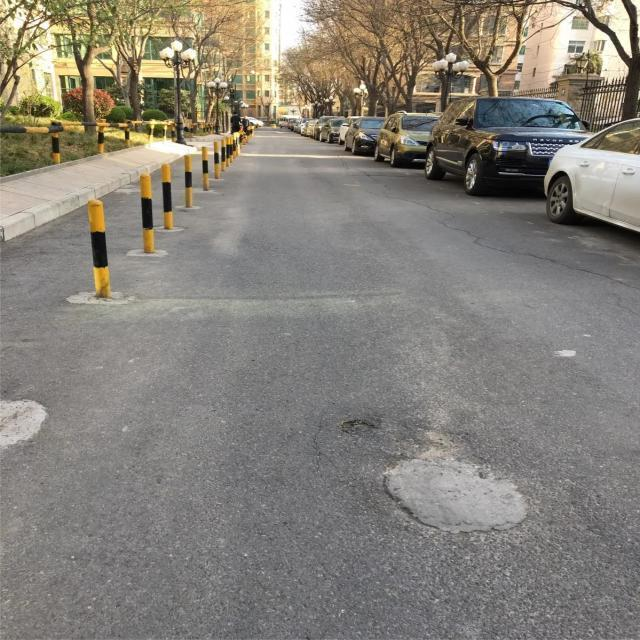pothole: (382, 459, 523, 535), (1, 399, 50, 460), (336, 417, 382, 436)
